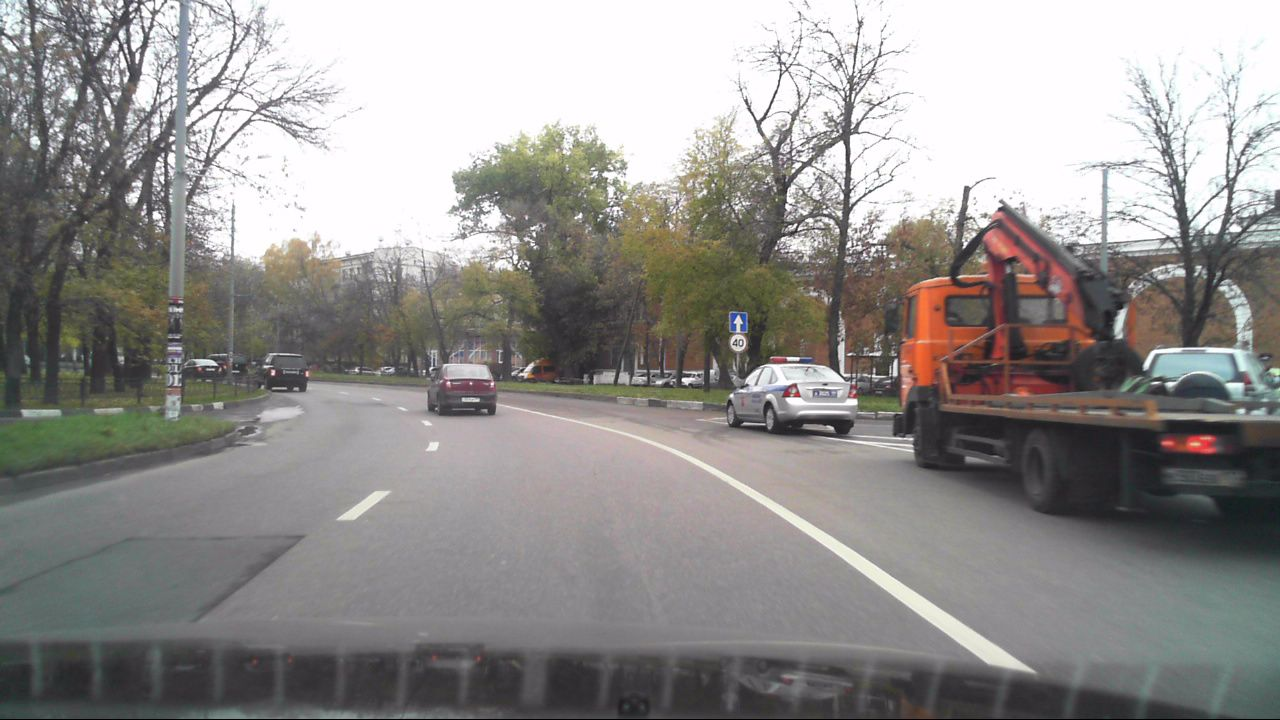speed_warning_40: (726, 334, 747, 353)
